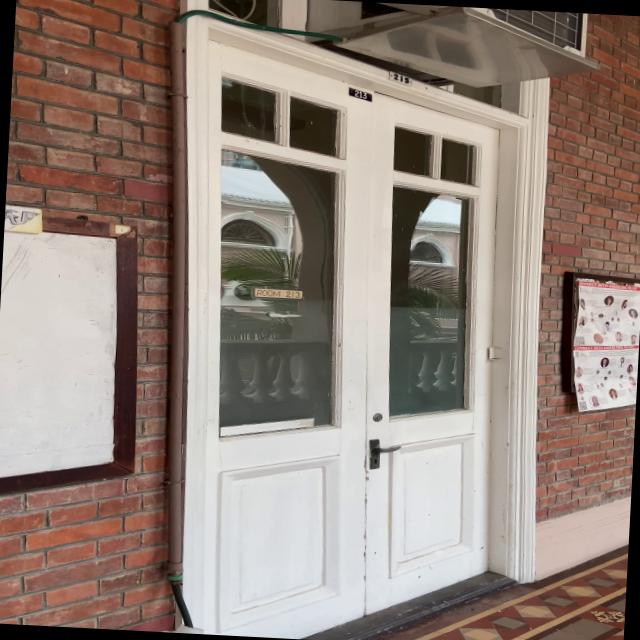room213: (342, 85, 374, 104)
room213Window: (246, 282, 311, 304)
